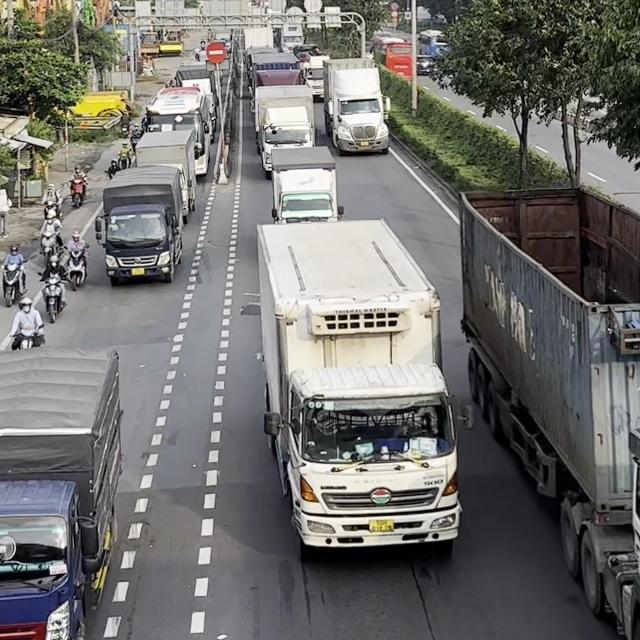bus: (145, 85, 212, 176)
motorcycle: (38, 272, 67, 323), (0, 257, 28, 307), (62, 243, 90, 290), (10, 323, 45, 350), (39, 225, 60, 267), (69, 175, 87, 207), (116, 149, 131, 170)
truck: (458, 184, 639, 639), (254, 216, 474, 562), (0, 345, 124, 639), (94, 166, 184, 287), (322, 56, 391, 155), (252, 84, 317, 177), (270, 145, 344, 223), (134, 129, 197, 215)
